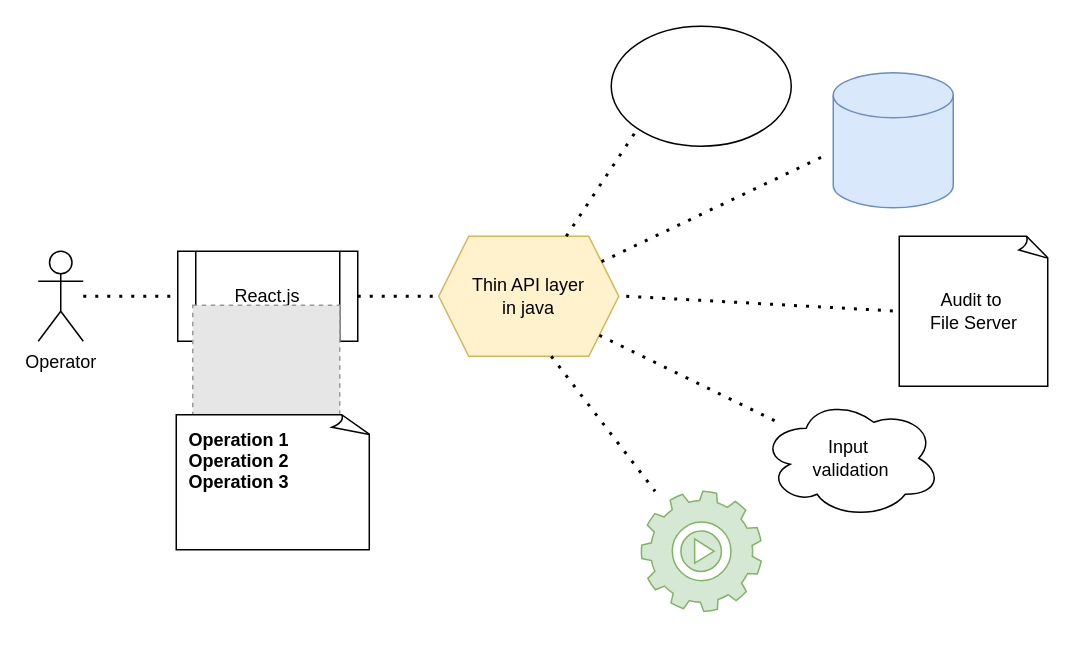
Image size: 1076x669. Some labels were removed from this diagram. Grey dashed boxes stand in for pictures. Each missing label, with the centre of its shape:
Authentication /authorization: (x=700, y=85)
One single database table: (x=892, y=139)
Script execution: (x=700, y=550)
